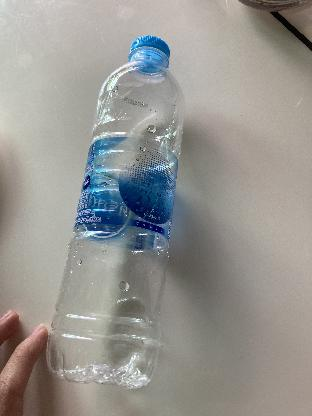Plastic Bottle: (46, 33, 192, 397)
